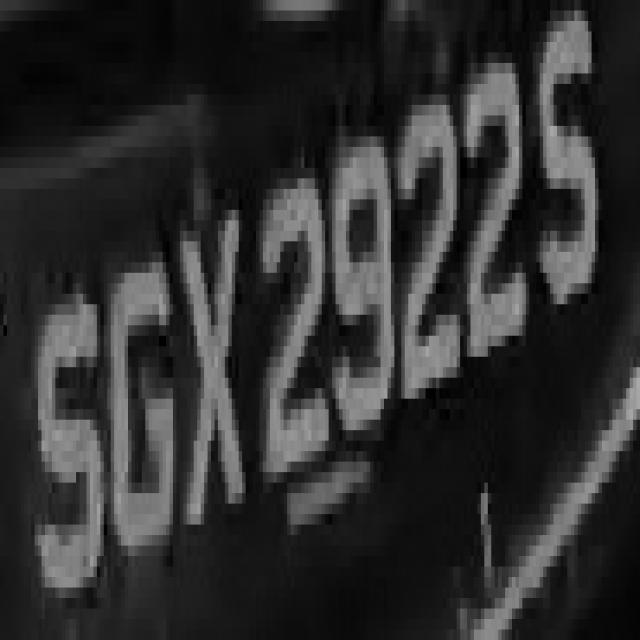2: (249, 157, 336, 514), (391, 84, 463, 462), (460, 32, 529, 420)
9: (325, 105, 401, 493)
G: (104, 220, 173, 577)
S: (28, 284, 110, 608), (529, 0, 602, 357)
X: (183, 199, 256, 566)
